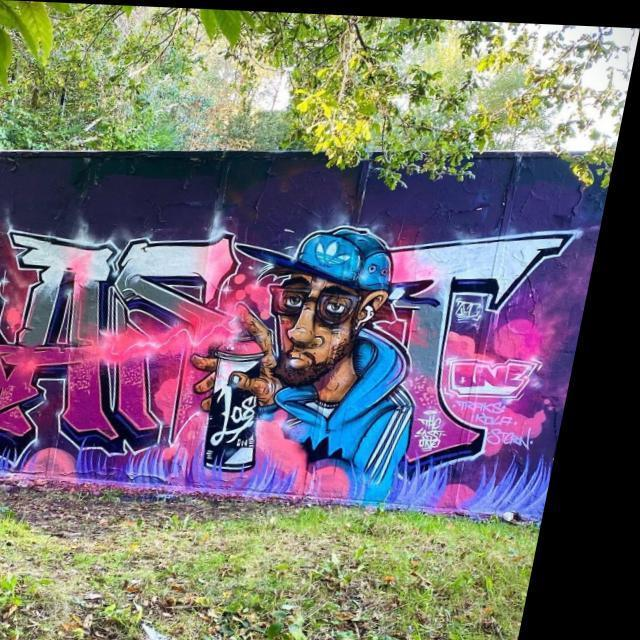-: (0, 204, 591, 484), (193, 216, 459, 499), (460, 390, 559, 454), (426, 405, 463, 451), (462, 292, 499, 325)
